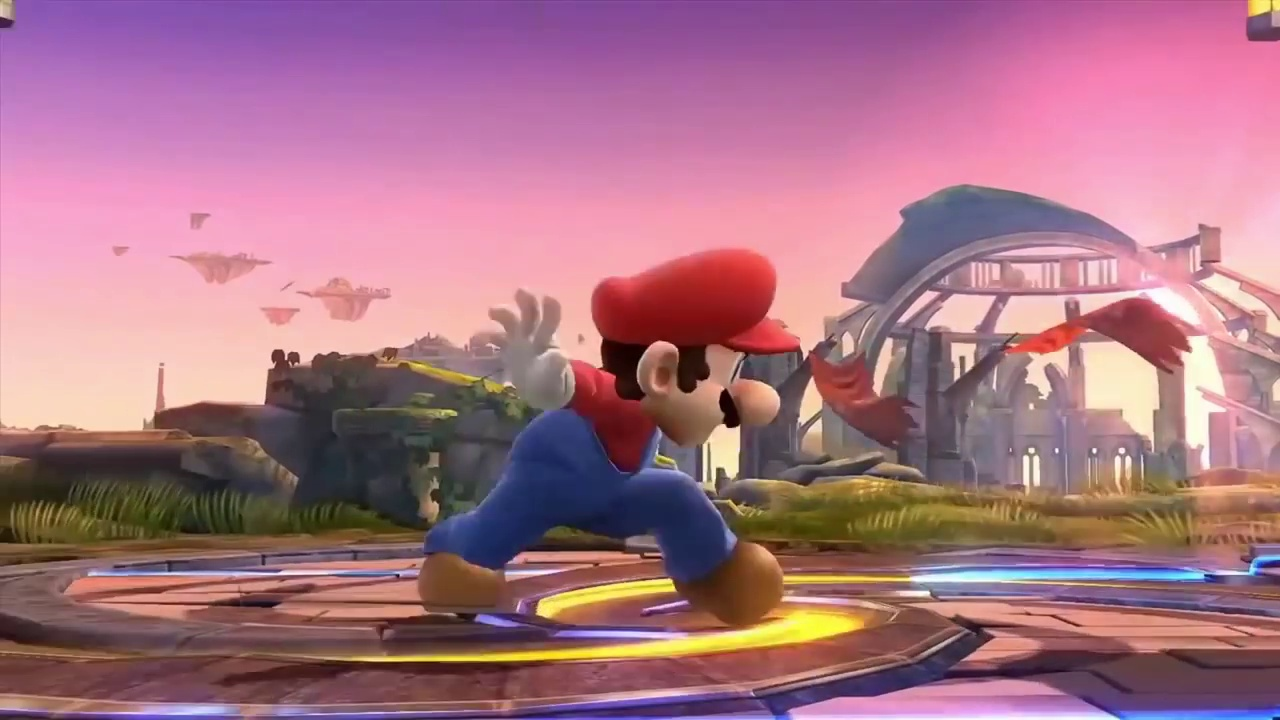Mario: (421, 249, 796, 630)
